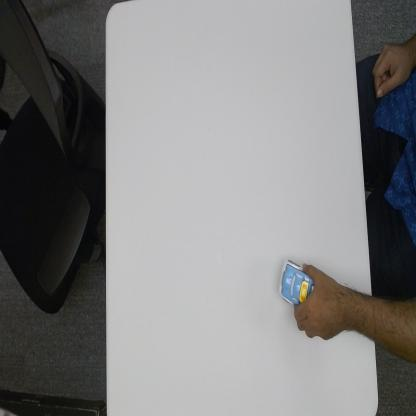Arm: (344, 285, 375, 340)
Car: (279, 256, 315, 308)
Hand: (294, 262, 344, 342)
